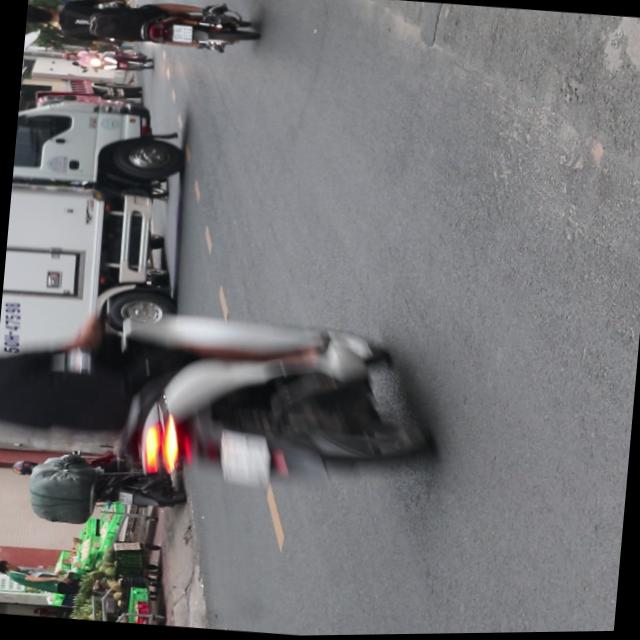licenseplate: (0, 289, 441, 513), (23, 0, 259, 63)
motorcyclist: (24, 4, 56, 29)
nohelmet: (215, 433, 267, 487), (170, 24, 190, 44)
